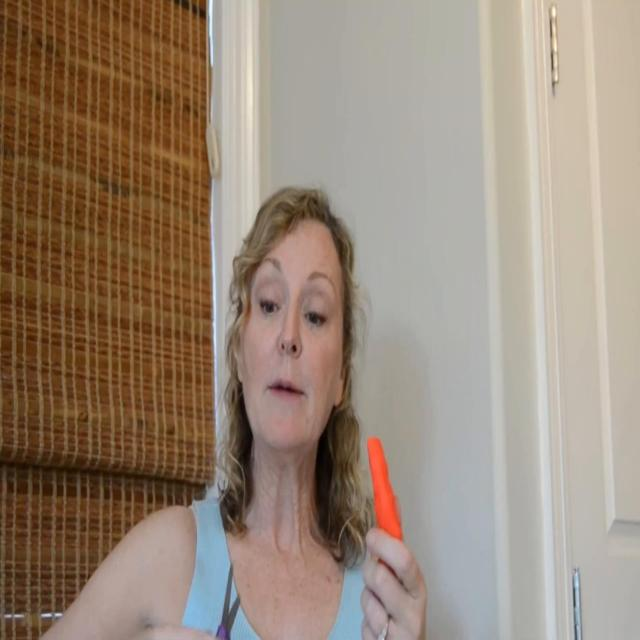scissor: (215, 565, 240, 640)
